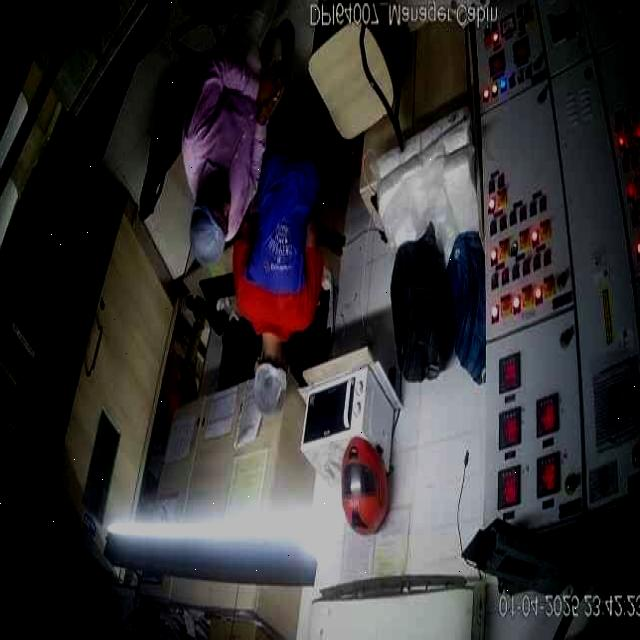helmet: (340, 435, 388, 537)
no_helmet: (191, 177, 231, 267), (253, 336, 287, 417)
